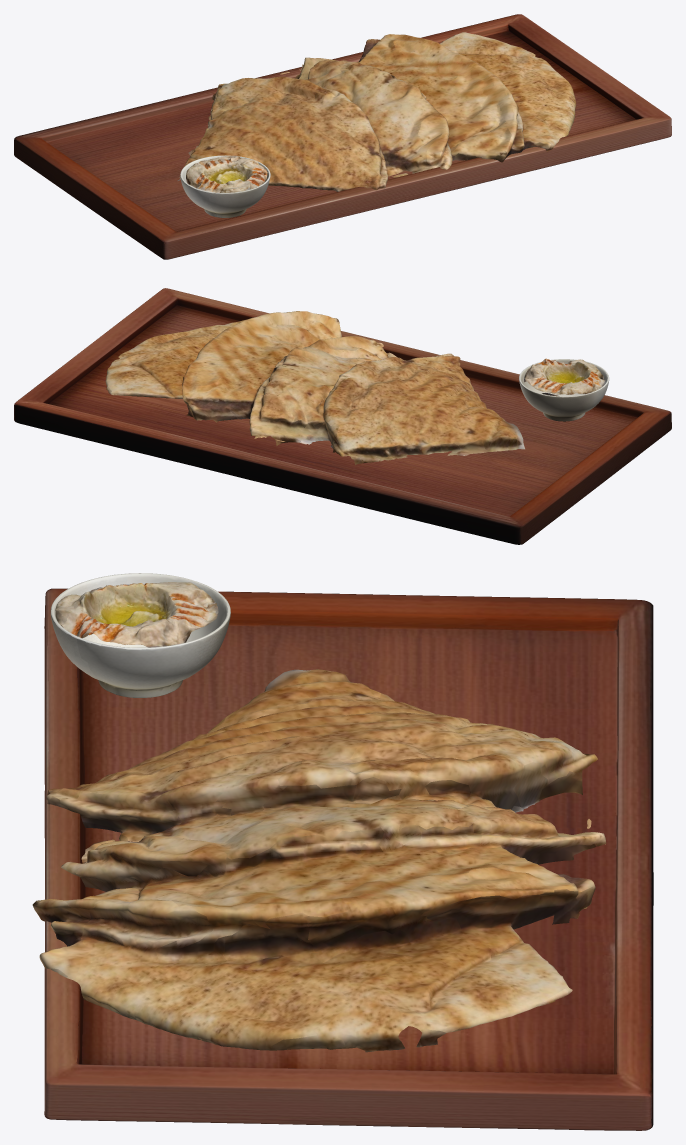
File: arayers.glb
3 views of the same model, one above another, from view 1: azimuth 30°, elevation 25°; view 2: azimuth 150°, elevation 25°; view 3: azimuth 270°, elevation 25° (orthographic). The views are drawn at different scales.
Visible parts, largest first — view 1: /Root/Scenes/Scene/Object_299/Object_304/Submesh_0, /Root/Scenes/Scene/Object_299/Object_300/Object_301/Submesh_, /Root/Scenes/Scene/Object_299/Object_789/Submesh_0, /Root/Scenes/Scene/Object_299/Object_1146/Object_1147/Submes; view 2: /Root/Scenes/Scene/Object_299/Object_300/Object_301/Submesh_, /Root/Scenes/Scene/Object_299/Object_304/Submesh_0, /Root/Scenes/Scene/Object_299/Object_789/Submesh_0, /Root/Scenes/Scene/Object_299/Object_1146/Object_1147/Submes; view 3: /Root/Scenes/Scene/Object_299/Object_300/Object_301/Submesh_, /Root/Scenes/Scene/Object_299/Object_304/Submesh_0, /Root/Scenes/Scene/Object_299/Object_1146/Object_1147/Submes, /Root/Scenes/Scene/Object_299/Object_789/Submesh_0.
Boxes of the visible parts, x1=… form: /Root/Scenes/Scene/Object_299/Object_304/Submesh_0: x1=177, y1=32, x2=576, y2=191; /Root/Scenes/Scene/Object_299/Object_300/Object_301/Submesh_: x1=14, y1=14, x2=671, y2=259; /Root/Scenes/Scene/Object_299/Object_789/Submesh_0: x1=186, y1=155, x2=267, y2=192; /Root/Scenes/Scene/Object_299/Object_1146/Object_1147/Submes: x1=180, y1=155, x2=270, y2=217; /Root/Scenes/Scene/Object_299/Object_300/Object_301/Submesh_: x1=14, y1=288, x2=671, y2=544; /Root/Scenes/Scene/Object_299/Object_304/Submesh_0: x1=105, y1=311, x2=524, y2=464; /Root/Scenes/Scene/Object_299/Object_789/Submesh_0: x1=524, y1=358, x2=605, y2=396; /Root/Scenes/Scene/Object_299/Object_1146/Object_1147/Submes: x1=519, y1=359, x2=609, y2=421; /Root/Scenes/Scene/Object_299/Object_300/Object_301/Submesh_: x1=44, y1=588, x2=653, y2=1130; /Root/Scenes/Scene/Object_299/Object_304/Submesh_0: x1=32, y1=669, x2=606, y2=1052; /Root/Scenes/Scene/Object_299/Object_1146/Object_1147/Submes: x1=50, y1=573, x2=230, y2=697; /Root/Scenes/Scene/Object_299/Object_789/Submesh_0: x1=55, y1=582, x2=218, y2=647.
Bounding box in the file's own units: 0.2978 × 0.0341 × 0.1576.
4 materials, 4 textured.
